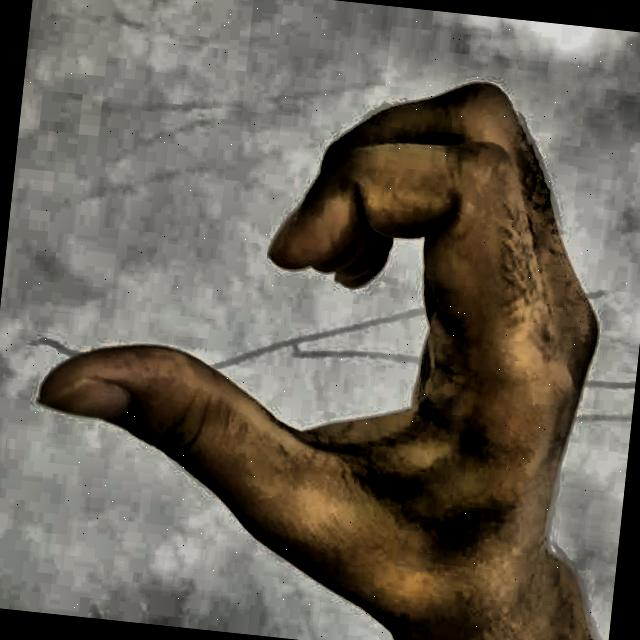Kha: (0, 0, 640, 631)
